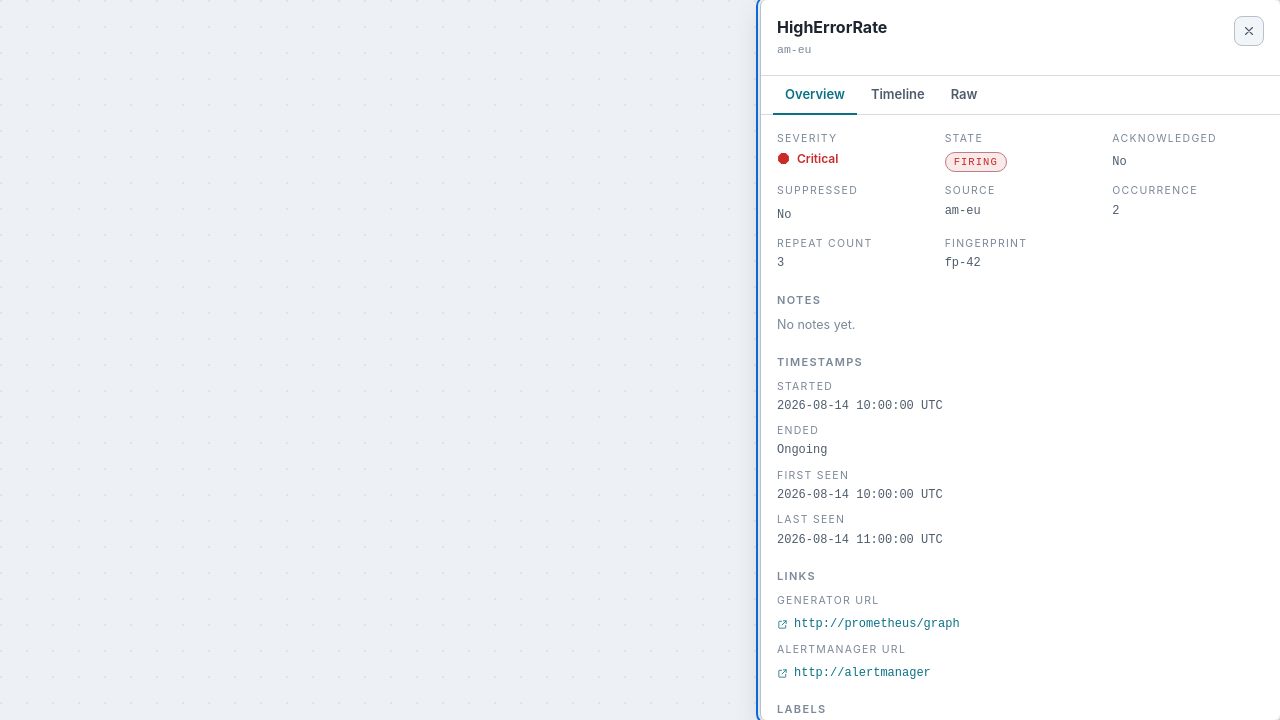
AlertDetailDrawer › renders the raw tab as formatted JSON without interpreting HTML
The width and height of the screenshot is (1280, 720).
Step 1. Click the tab "Raw" → (964,95), box [939, 76, 990, 115]
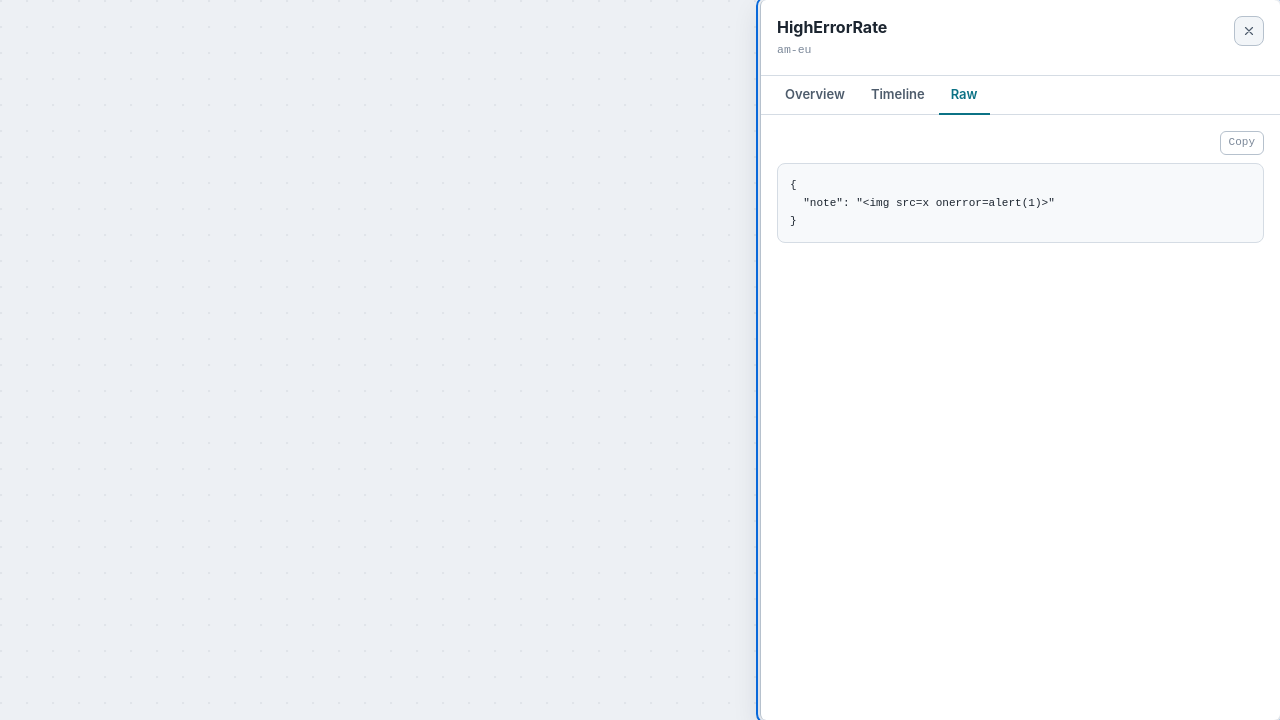
Result: the element with class "detail-raw-pre" is shown at [777, 163, 1264, 243]
